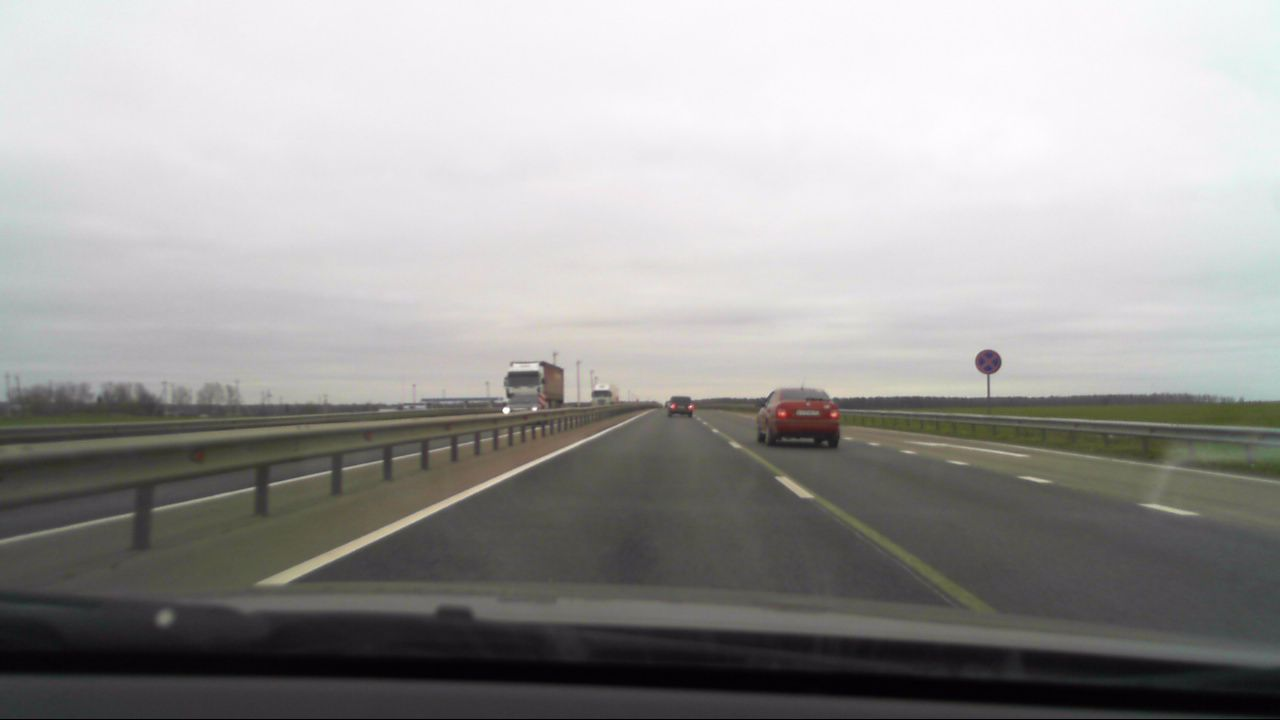No Parking: (973, 348, 1004, 376)
